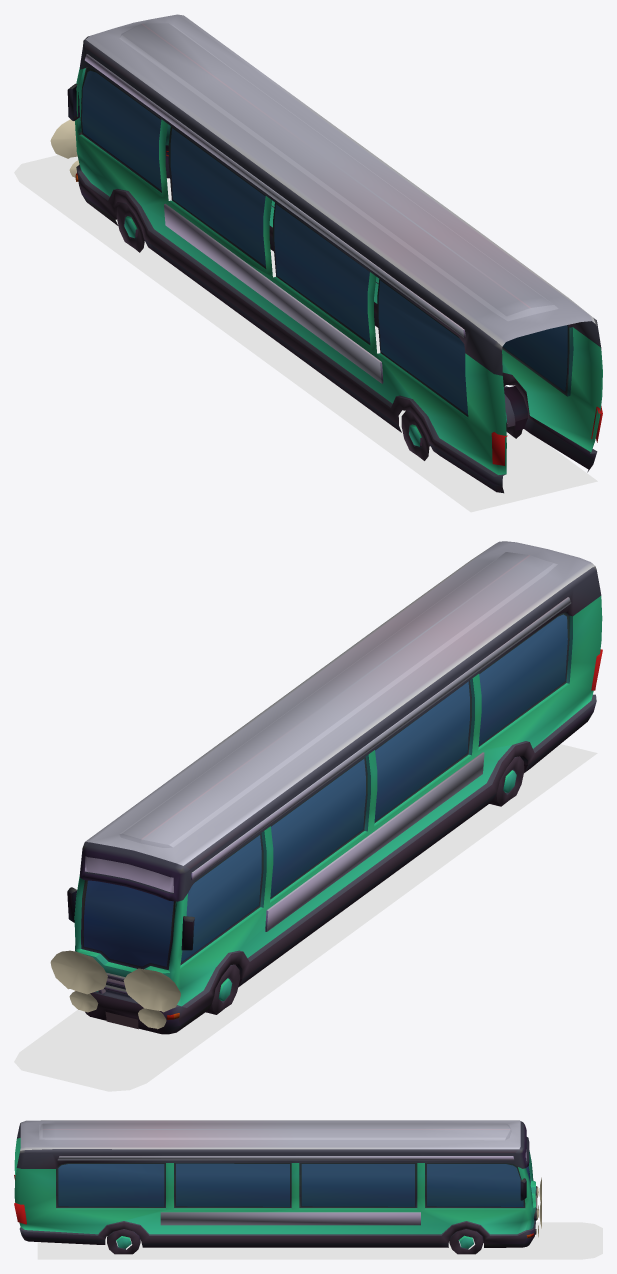
Rendered from City_Double8_Bus02.fbx.
3 renders of one model, top to bottom at view 1: azimuth 30°, elevation 25°; view 2: azimuth 150°, elevation 25°; view 3: azimuth 270°, elevation 25°, orthographic. The views are drawn at different scales.
Visible parts, largest first — view 1: city_double8_bus02, busShadow, busLights; view 2: city_double8_bus02, busShadow, busLights; view 3: city_double8_bus02, busShadow.
Boxes of the visible parts, <box> form: city_double8_bus02: <box>67,14,602,493</box>; busShadow: <box>14,155,597,512</box>; busLights: <box>50,119,79,177</box>; city_double8_bus02: <box>67,541,602,1034</box>; busShadow: <box>14,744,597,1091</box>; busLights: <box>50,950,180,1029</box>; city_double8_bus02: <box>14,1120,537,1254</box>; busShadow: <box>37,1222,602,1259</box>.
Bounding box in the file's own units: 137 × 190 × 887.
